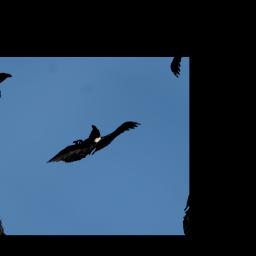Crow: (45, 98, 143, 190)
